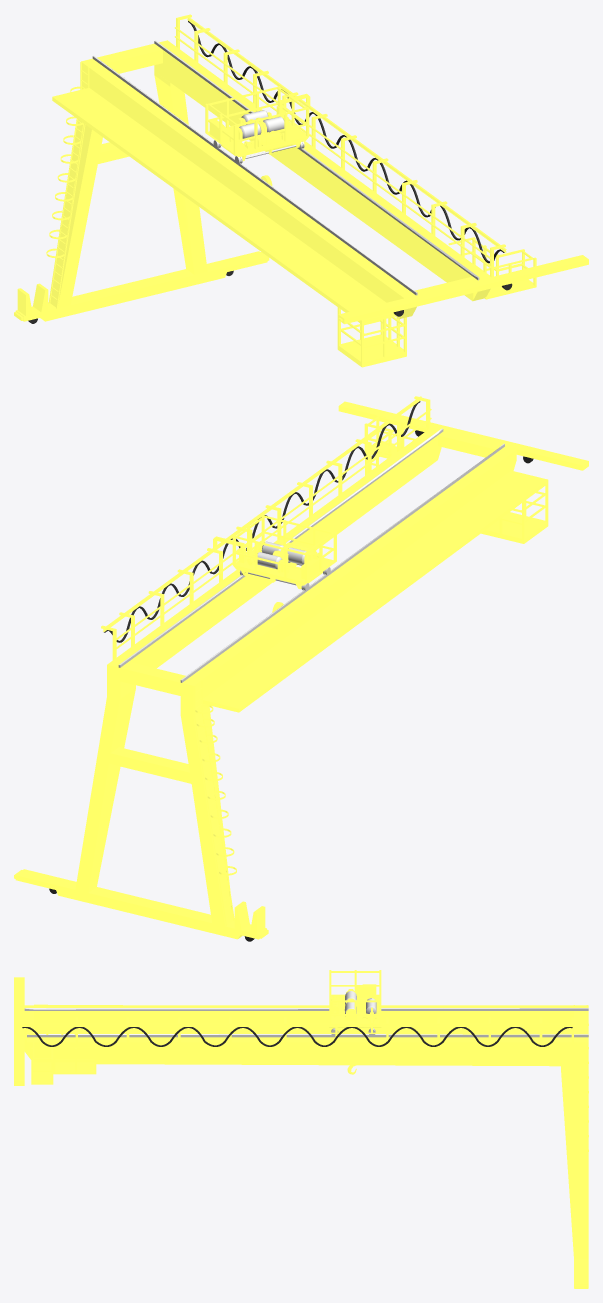
The picture shows the model from 3 angles, top to bottom: view 1: azimuth 30°, elevation 25°; view 2: azimuth 150°, elevation 25°; view 3: azimuth 270°, elevation 25°; orthographic projection. The views are drawn at different scales.
Parts seen in each view (by area): view 1: 2_Bay_C_862_Bode, 2_Bay_C_862_Head_01; view 2: 2_Bay_C_862_Bode, 2_Bay_C_862_Head_01; view 3: 2_Bay_C_862_Bode, 2_Bay_C_862_Head_01.
Part boxes in pixels (box(x1,y1,x2,y2)): 2_Bay_C_862_Bode: box(14, 14, 588, 367); 2_Bay_C_862_Head_01: box(205, 86, 310, 186); 2_Bay_C_862_Bode: box(14, 396, 588, 941); 2_Bay_C_862_Head_01: box(213, 514, 336, 612); 2_Bay_C_862_Bode: box(14, 977, 588, 1288); 2_Bay_C_862_Head_01: box(329, 970, 381, 1074).
Bounding box in the file's own units: 9.43 × 10.47 × 21.68.
